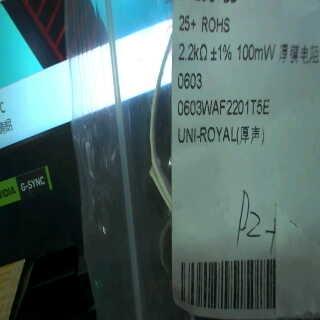2.2kR: (176, 40, 210, 64)
